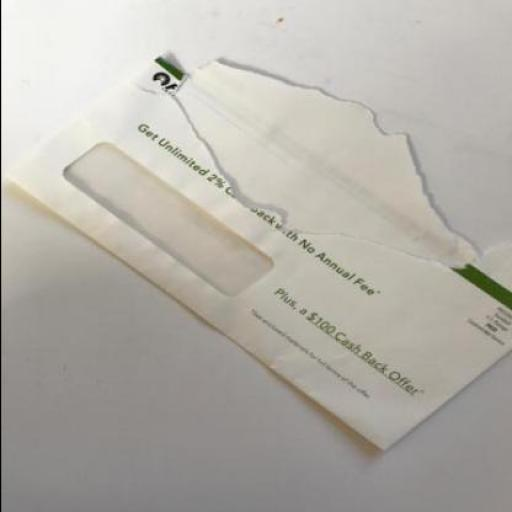paper: (1, 52, 511, 449)
